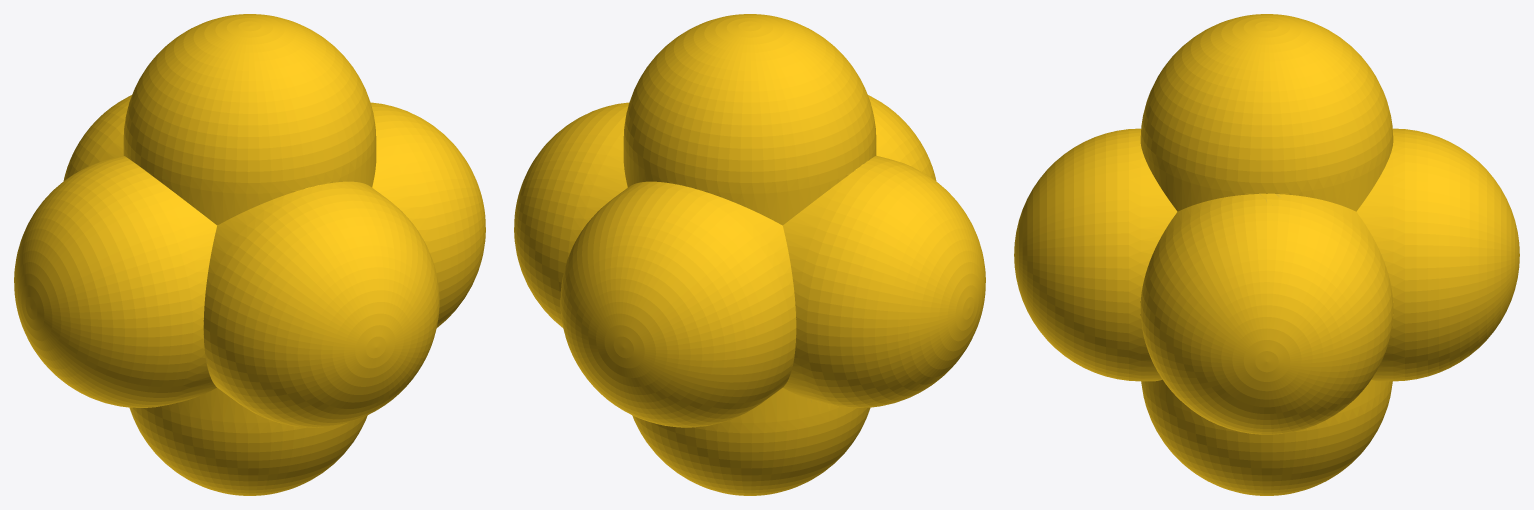
The model's file is Six-way.glb.
The picture shows the model from 3 angles, left to right: view 1: azimuth 30°, elevation 25°; view 2: azimuth 150°, elevation 25°; view 3: azimuth 270°, elevation 25°; orthographic projection.
Parts seen in each view (by area): view 1: node_id3; view 2: node_id3; view 3: node_id3.
Part boxes in pixels (x1,y1,x2,y2): node_id3: (14,14,485,495); node_id3: (514,14,985,495); node_id3: (1014,14,1519,495).
Size of the model in its own units: 0.512 by 0.512 by 0.512.
1 material, 1 textured.
